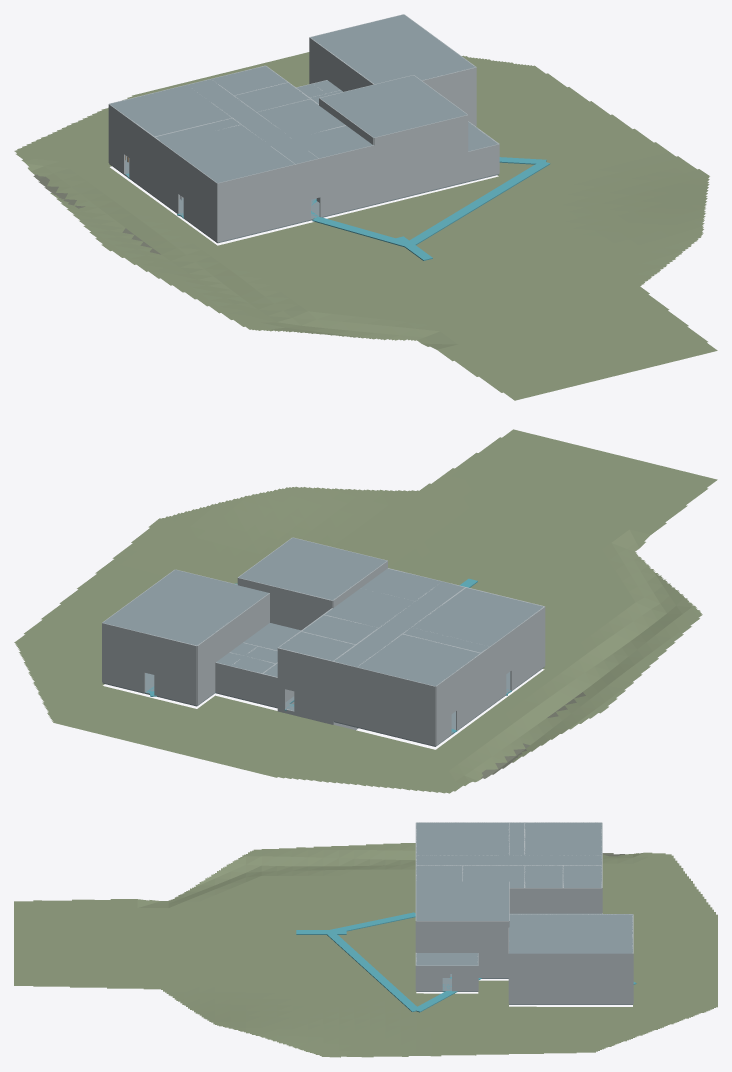
File: terrain-assembly.glb
3 views of the same model, one above another, from view 1: azimuth 30°, elevation 25°; view 2: azimuth 150°, elevation 25°; view 3: azimuth 270°, elevation 25° (orthographic). The views are drawn at different scales.
Visible parts, largest first — view 1: Saved editor macroterrain SCHOOL, Ceiling cap gym, Ceiling cap assembly, Ceiling cap library, Wall assembly S, Ceiling cap class-b, Ceiling cap upper-corridor, Wall library S, Wall class-a-store S, Ceiling cap upper-stair, Wall dining S, Wall upper-lobby S (+17 smaller); view 2: Saved editor macroterrain SCHOOL, Ceiling cap gym, Ceiling cap assembly, Ceiling cap library, Ceiling cap class-b, Wall gym N.001, Wall gym N, Ceiling cap upper-corridor, Wall class-b N, Wall science N, Wall assembly N, Ceiling cap upper-stair (+15 smaller); view 3: Saved editor macroterrain SCHOOL, Wall gym E, Ceiling cap gym, Ceiling cap assembly, Ceiling cap library, Wall assembly E, Ceiling cap class-b, Ceiling cap upper-corridor, Ceiling cap upper-stair, Wall wash-b E, Wall wash-a E, L41 support 1 (+10 smaller).
Part boxes in pixels (left/top/right/bottom): Saved editor macroterrain SCHOOL: left=14, top=52, right=717, bottom=400; Ceiling cap gym: left=311, top=14, right=475, bottom=84; Ceiling cap assembly: left=320, top=75, right=467, bottom=137; Ceiling cap library: left=164, top=124, right=294, bottom=182; Wall assembly S: left=374, top=115, right=467, bottom=174; Ceiling cap class-b: left=110, top=85, right=231, bottom=136; Ceiling cap upper-corridor: left=188, top=79, right=318, bottom=163; Wall library S: left=217, top=164, right=295, bottom=212; Wall class-a-store S: left=217, top=194, right=295, bottom=242; Ceiling cap upper-stair: left=257, top=99, right=345, bottom=138; Wall dining S: left=374, top=159, right=436, bottom=203; Wall upper-lobby S: left=319, top=145, right=374, bottom=187; Saved editor macroterrain SCHOOL: left=14, top=429, right=717, bottom=793; Ceiling cap gym: left=103, top=569, right=268, bottom=645; Ceiling cap assembly: left=238, top=538, right=386, bottom=600; Ceiling cap library: left=412, top=588, right=542, bottom=646; Ceiling cap class-b: left=357, top=634, right=480, bottom=686; Wall gym N.001: left=102, top=623, right=145, bottom=692; Wall gym N: left=154, top=635, right=196, bottom=705; Ceiling cap upper-corridor: left=334, top=581, right=464, bottom=666; Wall class-b N: left=356, top=667, right=435, bottom=715; Wall science N: left=356, top=697, right=435, bottom=745; Wall assembly N: left=238, top=577, right=332, bottom=630; Ceiling cap upper-stair: left=325, top=588, right=414, bottom=627; Saved editor macroterrain SCHOOL: left=14, top=843, right=717, bottom=1057; Wall gym E: left=509, top=953, right=632, bottom=1004; Ceiling cap gym: left=509, top=914, right=632, bottom=953; Ceiling cap assembly: left=416, top=881, right=508, bottom=920; Ceiling cap library: left=416, top=822, right=508, bottom=855; Wall assembly E: left=416, top=921, right=508, bottom=952; Ceiling cap class-b: left=524, top=822, right=601, bottom=855; Ceiling cap upper-corridor: left=416, top=855, right=601, bottom=865; Ceiling cap upper-stair: left=462, top=865, right=524, bottom=887; Wall wash-b E: left=524, top=888, right=563, bottom=913; Wall wash-a E: left=563, top=888, right=601, bottom=913; L41 support 1: left=326, top=931, right=419, bottom=1011.
Bounding box in the file's own units: 67 × 11.26 × 91.
Materials: 22 (16 with a texture image).
